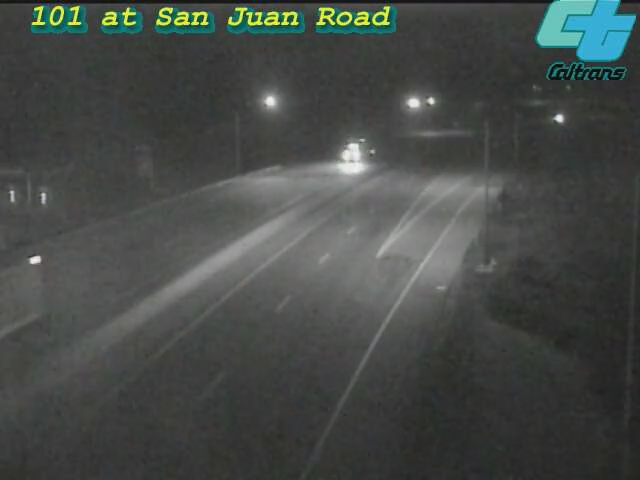vehicle: (314, 113, 394, 193), (1, 263, 49, 343), (536, 92, 586, 142)
